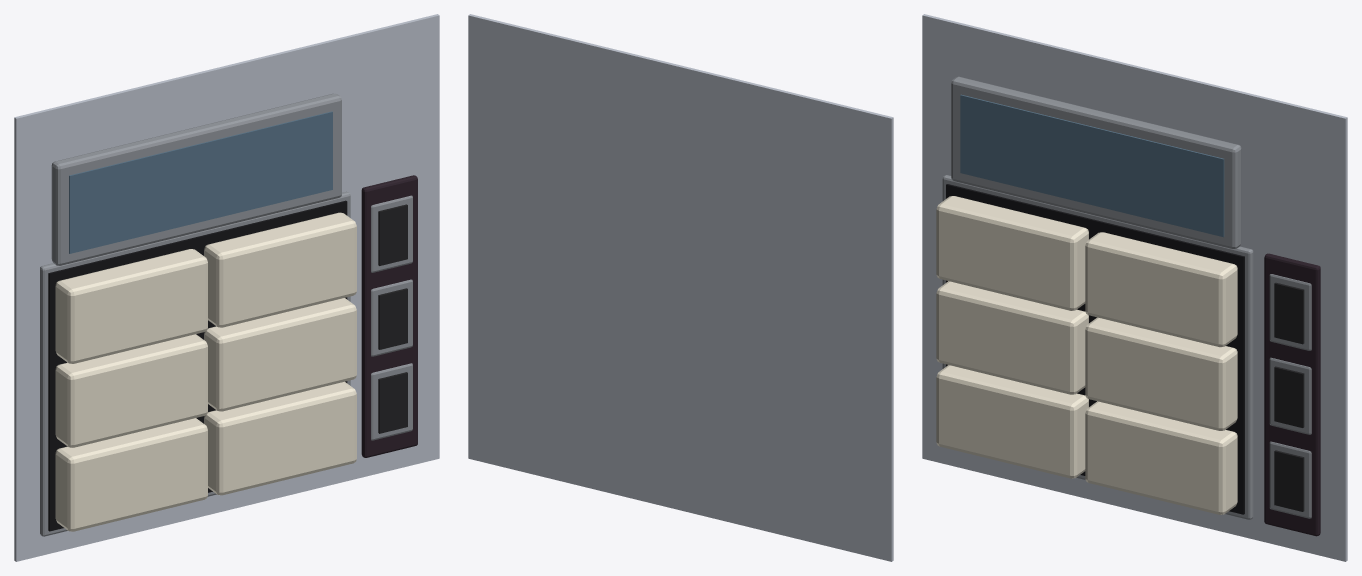
Rendered from whos_on_first_module.glb.
3 renders of one model, left to right at view 1: azimuth 30°, elevation 25°; view 2: azimuth 150°, elevation 25°; view 3: azimuth 330°, elevation 25°, orthographic.
Visible parts, largest first — view 1: wof_plate, wof_screen, part_btn_0, part_btn_1, part_btn_4, part_btn_2, part_btn_3, part_btn_5, wof_screen_frame, wof_led_strip, wof_well, wof_tray (+6 smaller); view 2: wof_plate; view 3: wof_plate, wof_screen, part_btn_1, part_btn_0, part_btn_5, part_btn_3, part_btn_4, part_btn_2, wof_screen_frame, wof_led_strip, wof_well, wof_tray (+6 smaller).
Part boxes in pixels (bbox=[...]): wof_plate: bbox=[14, 14, 439, 561]; wof_screen: bbox=[69, 111, 332, 253]; part_btn_0: bbox=[55, 249, 207, 363]; part_btn_1: bbox=[204, 212, 356, 327]; part_btn_4: bbox=[55, 418, 207, 531]; part_btn_2: bbox=[55, 334, 207, 447]; part_btn_3: bbox=[204, 298, 356, 411]; part_btn_5: bbox=[204, 381, 356, 495]; wof_screen_frame: bbox=[51, 93, 341, 265]; wof_led_strip: bbox=[361, 175, 417, 457]; wof_well: bbox=[48, 200, 347, 531]; wof_tray: bbox=[40, 191, 350, 536]; wof_plate: bbox=[468, 14, 893, 561]; wof_plate: bbox=[922, 14, 1347, 561]; wof_screen: bbox=[960, 94, 1224, 237]; part_btn_1: bbox=[1085, 232, 1237, 347]; part_btn_0: bbox=[936, 196, 1088, 310]; part_btn_5: bbox=[1085, 401, 1237, 514]; part_btn_3: bbox=[1085, 317, 1237, 430]; part_btn_4: bbox=[936, 365, 1088, 478]; part_btn_2: bbox=[936, 281, 1088, 394]; wof_screen_frame: bbox=[951, 76, 1241, 248]; wof_led_strip: bbox=[1264, 253, 1320, 536]; wof_well: bbox=[946, 184, 1244, 514]; wof_tray: bbox=[942, 175, 1253, 519].
Bounding box in the file's own units: 0.74 × 0.74 × 0.069.
